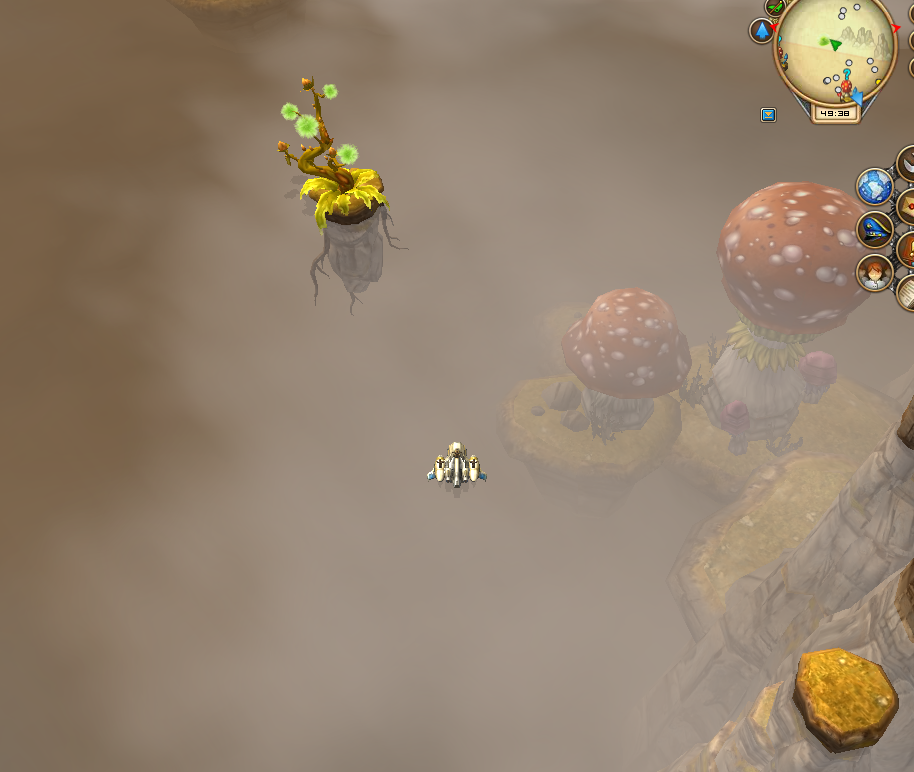dandelion-full: (269, 61, 405, 288)
